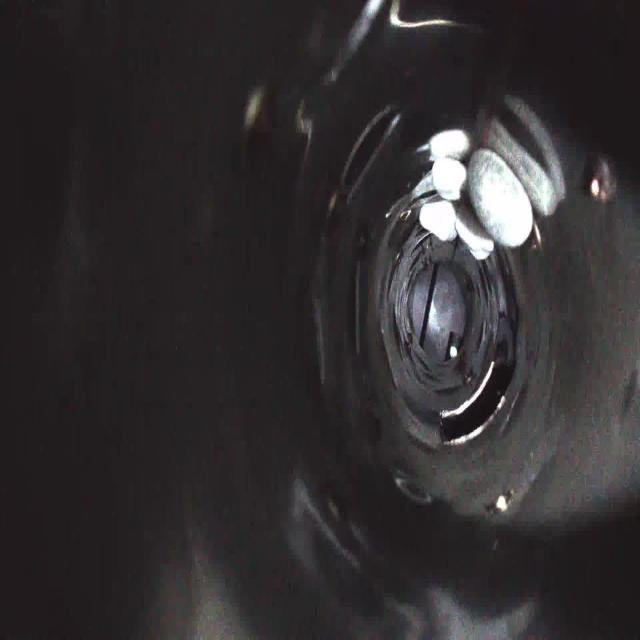crack: (380, 263, 408, 359), (478, 254, 508, 340), (415, 367, 459, 403)
hole: (440, 362, 516, 449)
